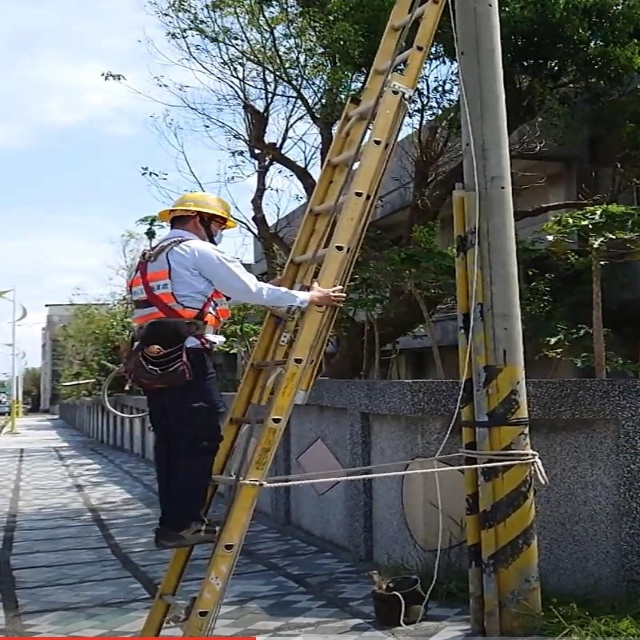Arnes_seguridad: (112, 236, 230, 396)
